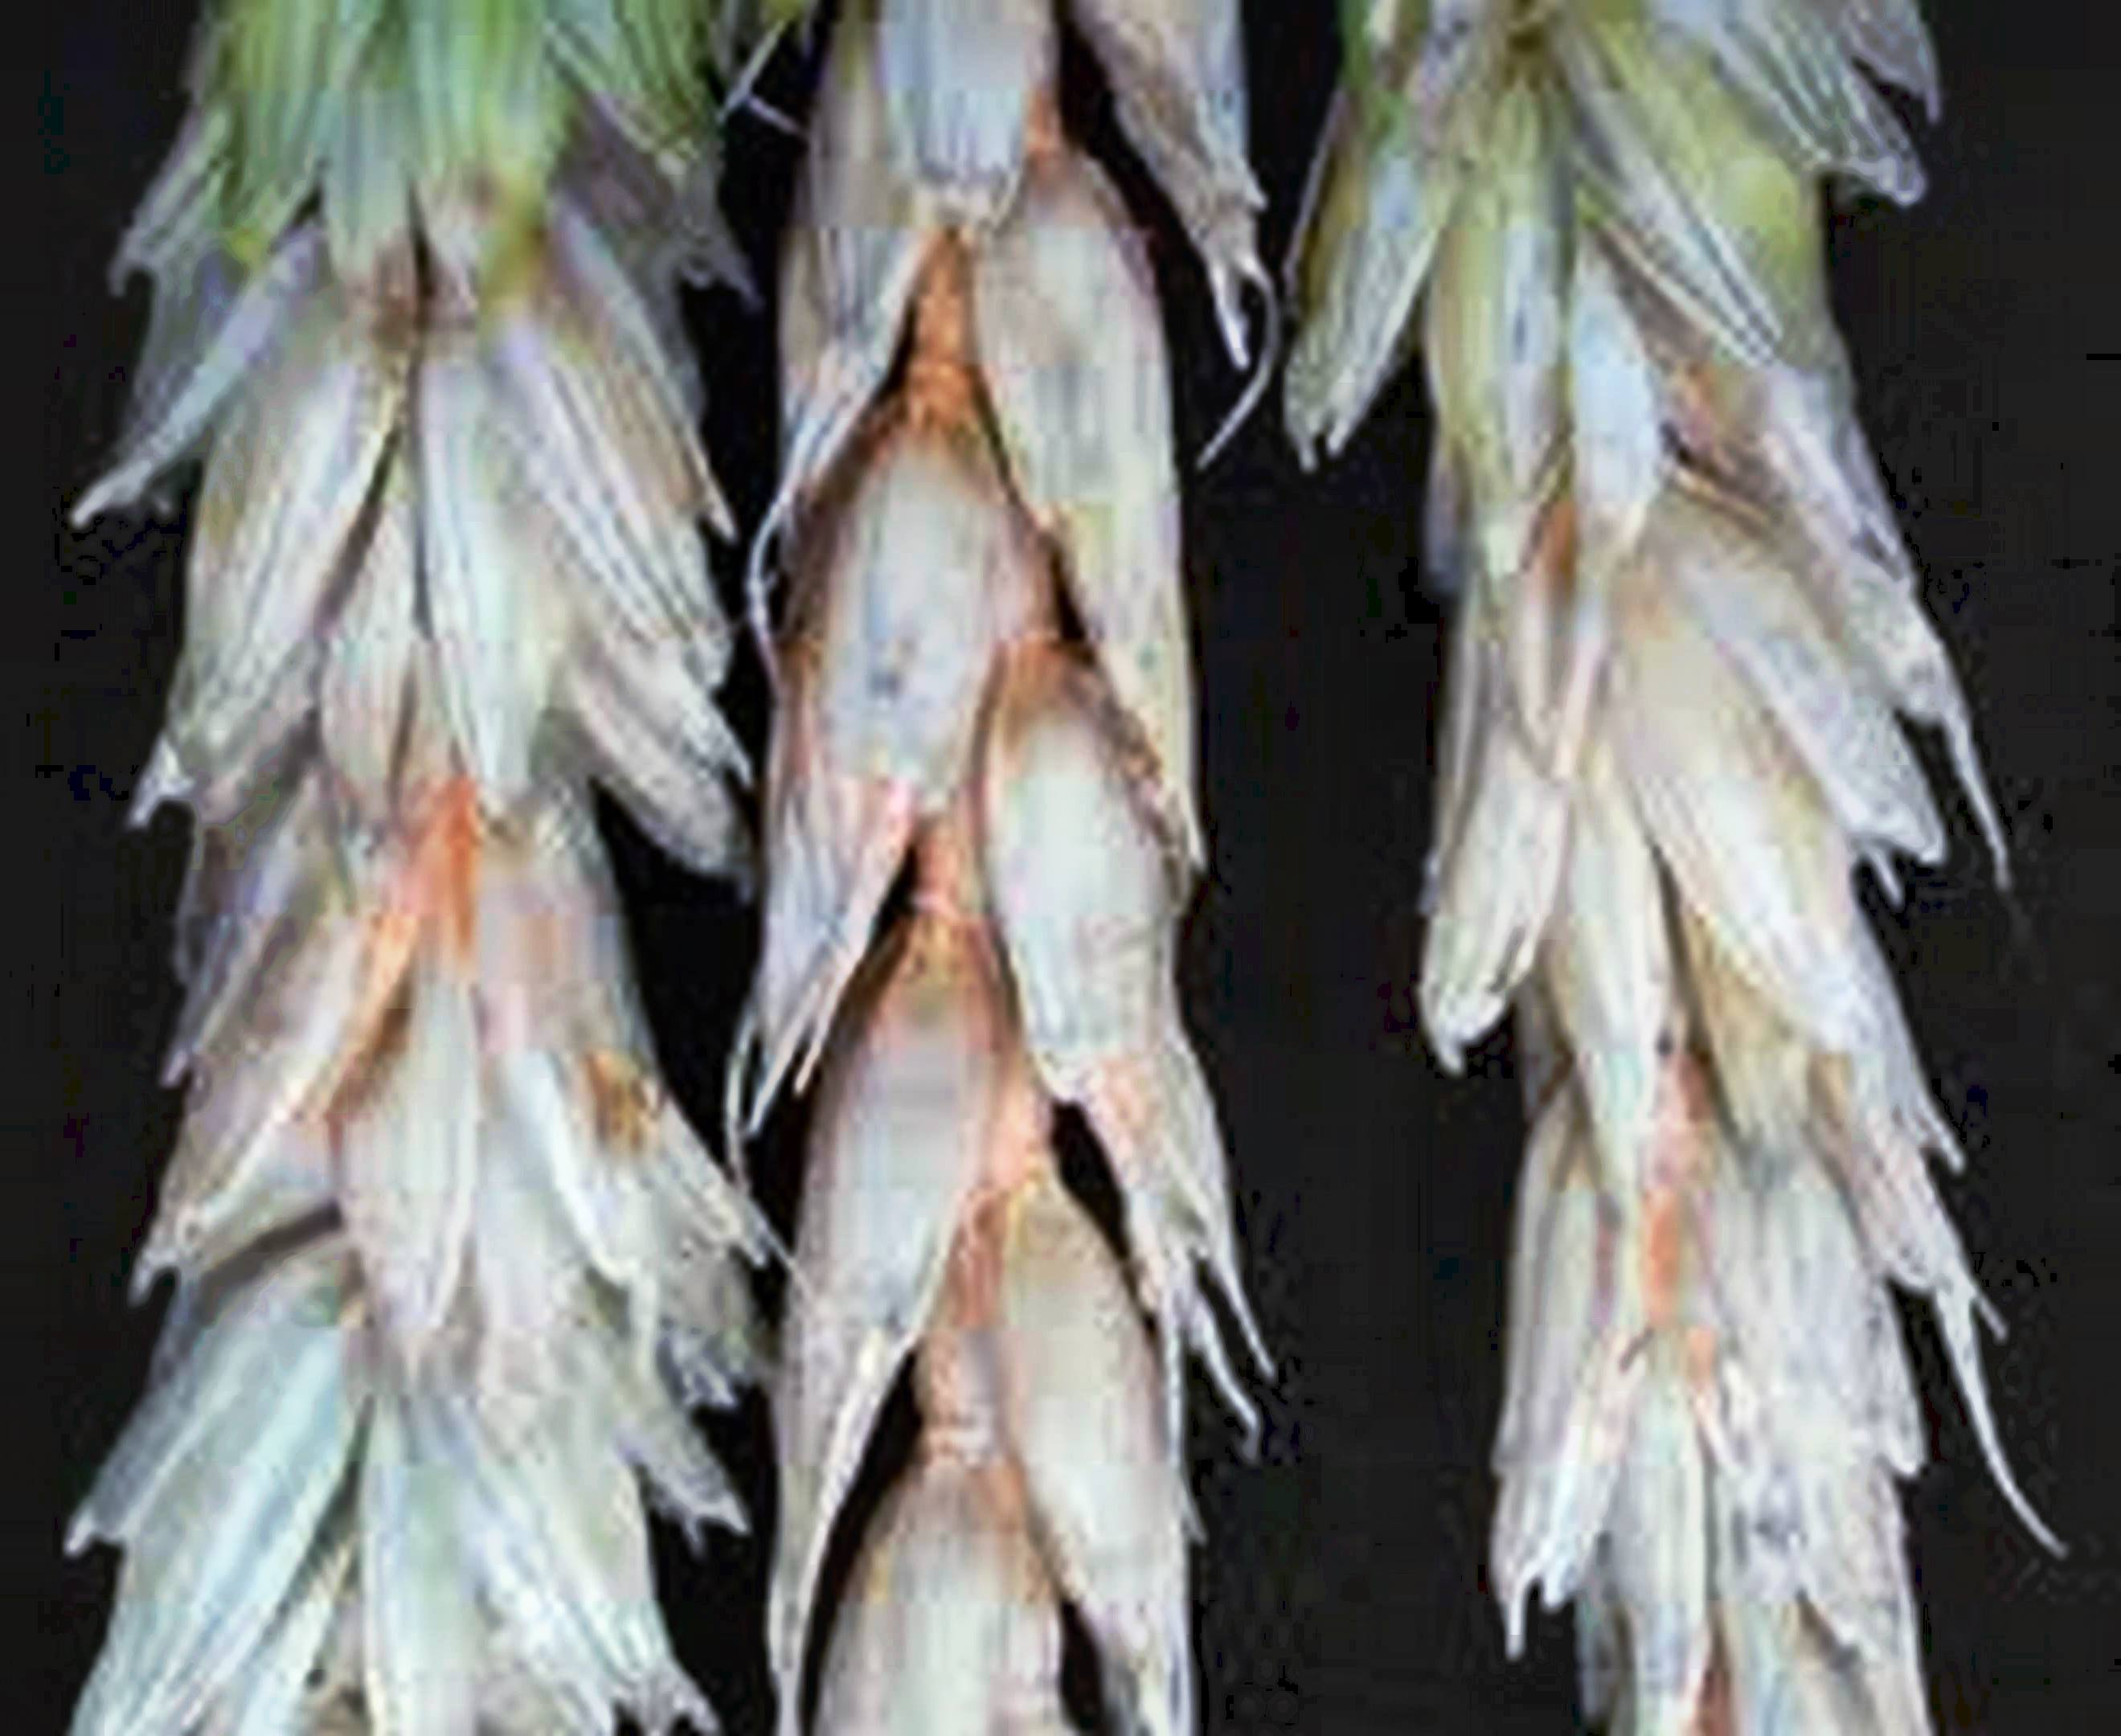Wheat scab: (39, 0, 682, 1715), (733, 90, 1309, 1736)
